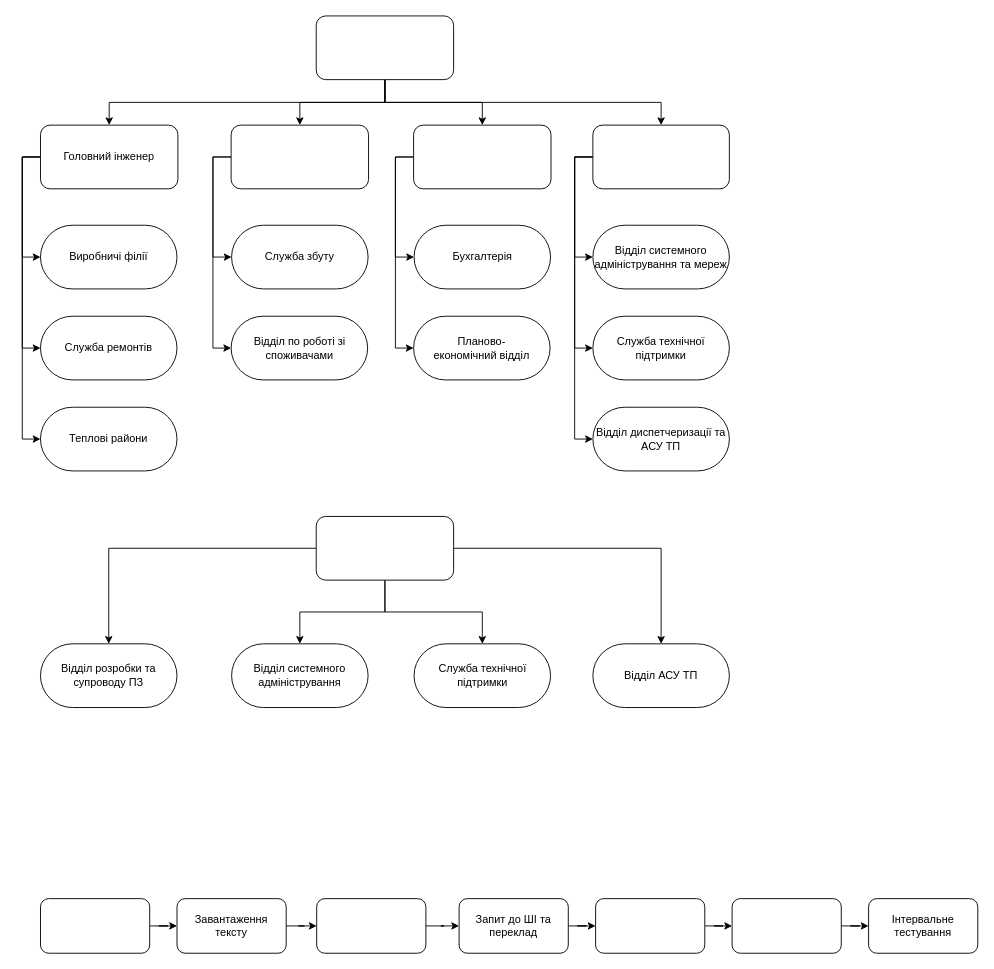
Image size: 994x969. Some labels were removed from this diagram. Each missing label, with the box of its shape:
Авторизація у застосунку: (40, 898, 150, 953)
Генеральний директор: (315, 15, 454, 80)
Генерація розкладу повторень: (731, 898, 841, 953)
Дирекція з інформаційних технологій: (592, 124, 729, 189)
Заступник генерального директора з економіки та фінансів: (413, 124, 551, 189)
Заступник генерального директора з комерційних питань: (230, 124, 369, 189)
Начальник служби інформаційних технологій: (315, 516, 454, 580)
Озвучка та збереження карток: (595, 898, 705, 953)
Парсинг та виділення слів: (316, 898, 426, 953)
